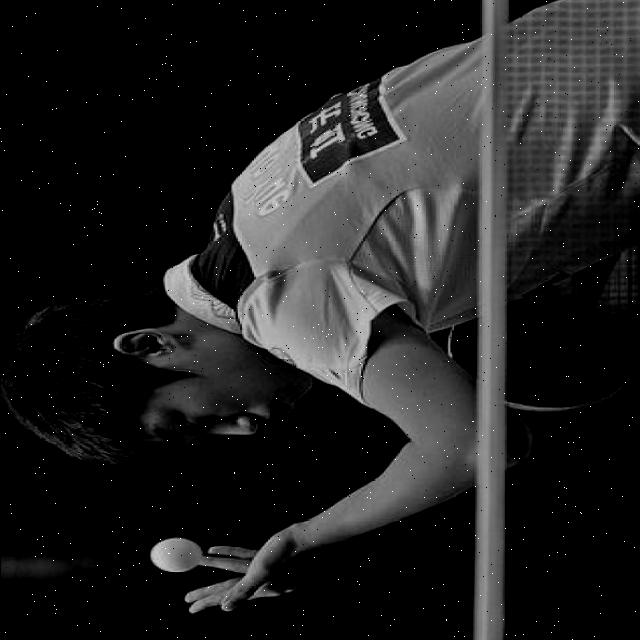ping-pong-ball: (146, 536, 204, 574)
